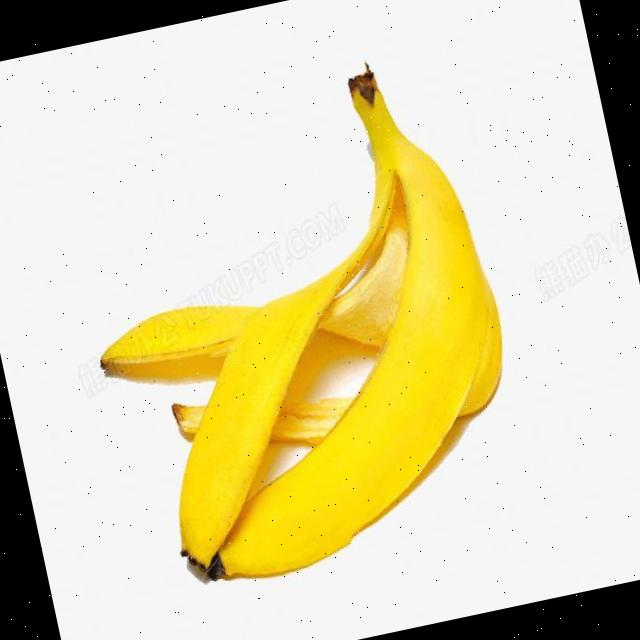banana-peel: (49, 45, 542, 602)
